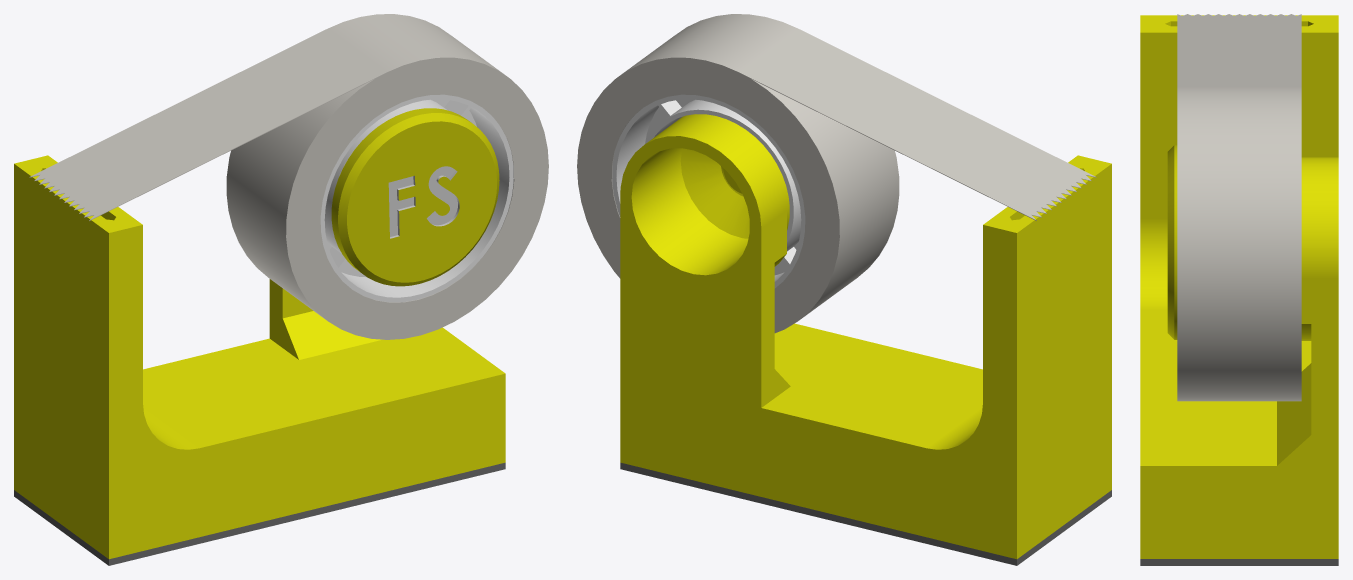
The model's file is porta_scotch_complessivo.gltf.
The picture shows the model from 3 angles, left to right: view 1: azimuth 30°, elevation 25°; view 2: azimuth 150°, elevation 25°; view 3: azimuth 270°, elevation 25°; orthographic projection. The views are drawn at different scales.
Visible parts, largest first — view 1: Porta_scotch-1, Scotch-1, ferma_scotch_assiale-1, Coperchio_porta_scotch-1; view 2: Porta_scotch-1, Scotch-1, Coperchio_porta_scotch-1; view 3: Porta_scotch-1, Scotch-1, ferma_scotch_assiale-1, Coperchio_porta_scotch-1.
Part boxes in pixels (bbox=[...]): Porta_scotch-1: bbox=[14, 155, 505, 559]; Scotch-1: bbox=[29, 14, 548, 339]; ferma_scotch_assiale-1: bbox=[331, 108, 499, 286]; Coperchio_porta_scotch-1: bbox=[14, 462, 505, 565]; Porta_scotch-1: bbox=[620, 114, 1111, 559]; Scotch-1: bbox=[577, 14, 1096, 333]; Coperchio_porta_scotch-1: bbox=[620, 462, 1111, 565]; Porta_scotch-1: bbox=[1140, 15, 1338, 558]; Scotch-1: bbox=[1177, 14, 1301, 401]; ferma_scotch_assiale-1: bbox=[1167, 145, 1177, 339]; Coperchio_porta_scotch-1: bbox=[1140, 559, 1338, 565].
Bounding box in the file's own units: 0.0811 × 0.0695 × 0.029.
